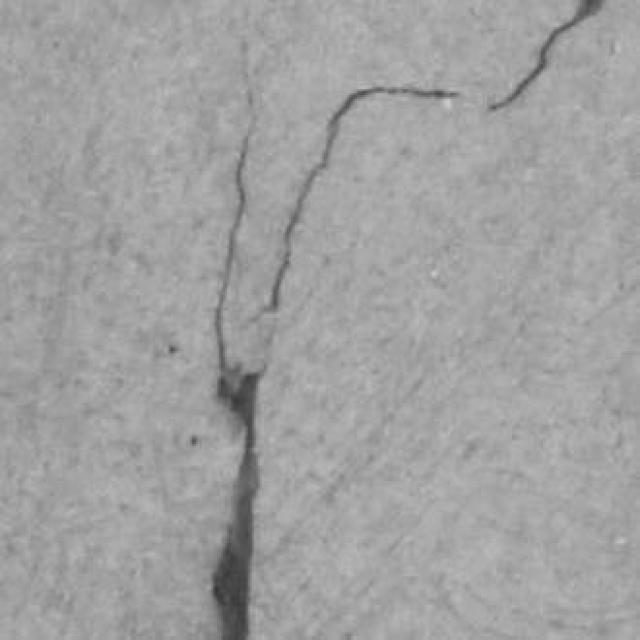crack: (266, 86, 457, 312), (212, 51, 261, 639), (212, 121, 265, 639), (489, 0, 605, 110), (214, 375, 259, 639)
